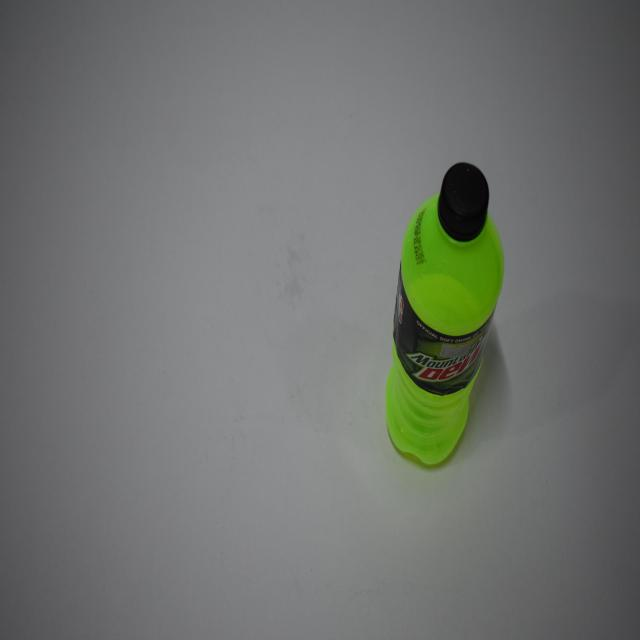bottle: (382, 157, 504, 470)
